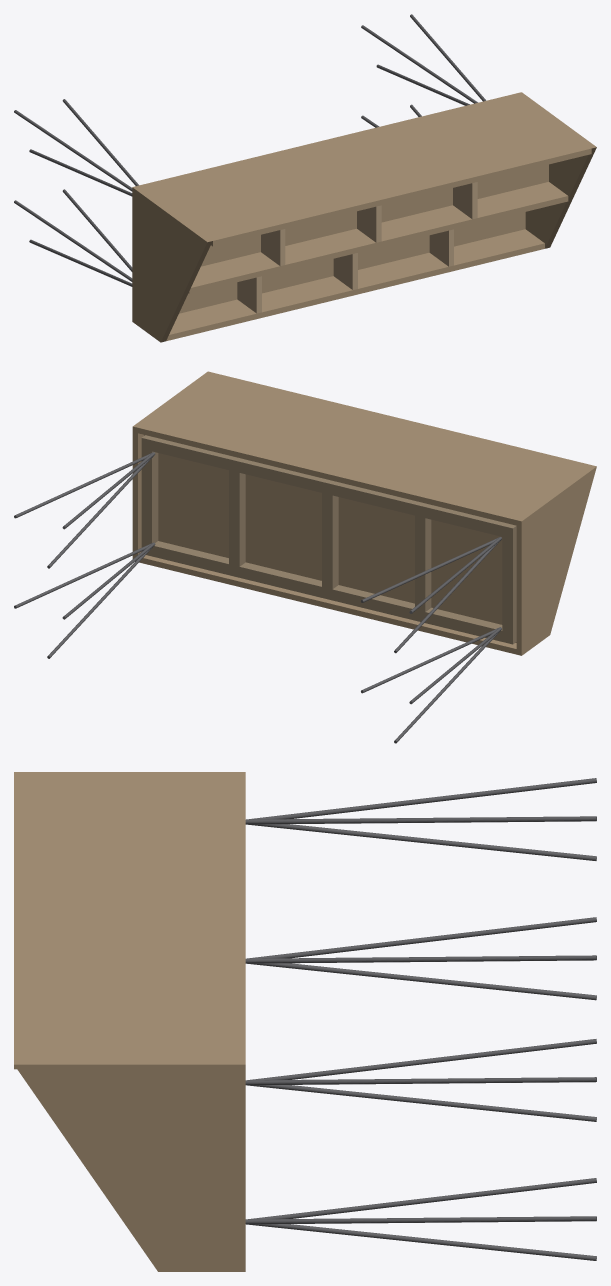
The model's file is vinyl_record_storage.glb.
3 renders of one model, top to bottom at view 1: azimuth 30°, elevation 25°; view 2: azimuth 150°, elevation 25°; view 3: azimuth 270°, elevation 25°, orthographic. The views are drawn at different scales.
Visible parts, largest first — view 1: back, shelf_divider, front, side_left, back_shelf_bottom, bottom, side_right, leg_back_left, leg_front_left, leg_back_right, back_divider_1, back_divider_2 (+4 smaller); view 2: back, bottom, side_left, frame_front, frame_back, front, frame_left, frame_right, frame_cross_3, frame_cross_2, side_right, leg_back_right (+4 smaller); view 3: back, side_right, leg_back_right, leg_front_right, leg_back_left, leg_front_left, side_left.
Boxes of the visible parts, x1,y1,x2,y2 form: back: (138,93,591,246); shelf_divider: (188,182,568,293); front: (166,229,544,341); side_left: (132,186,212,342); back_shelf_bottom: (201,164,548,266); bottom: (179,212,525,313); side_right: (517,92,596,248); leg_back_left: (14,99,138,196); leg_front_left: (14,189,132,286); leg_back_right: (361,14,485,105); back_divider_1: (261,229,285,266); back_divider_2: (357,205,381,242); back: (138,372,591,525); bottom: (144,435,516,642); side_left: (516,465,596,655); frame_front: (152,541,502,641); frame_back: (152,437,505,536); front: (139,555,516,654); frame_left: (502,523,516,644); frame_right: (141,435,158,556); frame_cross_3: (229,470,245,566); frame_cross_2: (322,493,338,589); side_right: (132,371,212,558); leg_back_right: (14,452,155,568); back: (14,776,245,1069); side_right: (14,1060,245,1271); leg_back_right: (245,1039,596,1121); leg_front_right: (245,1178,596,1260); leg_back_left: (245,778,596,860); leg_front_left: (245,917,596,1000); side_left: (14,772,245,775).
Size of the model in its own units: 56.58 by 19.25 by 46.53.
